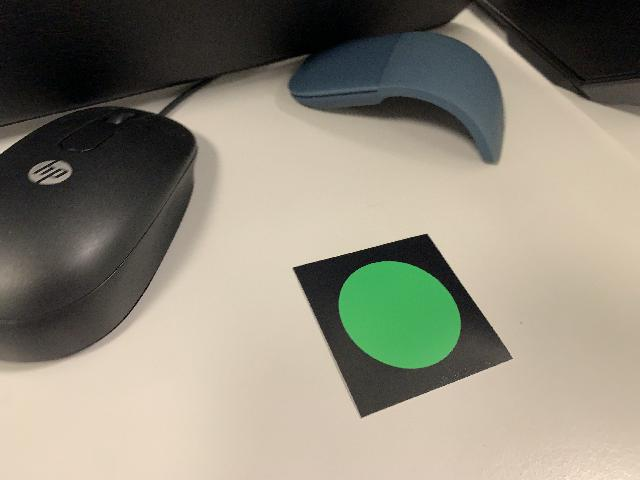go: (290, 231, 515, 421)
